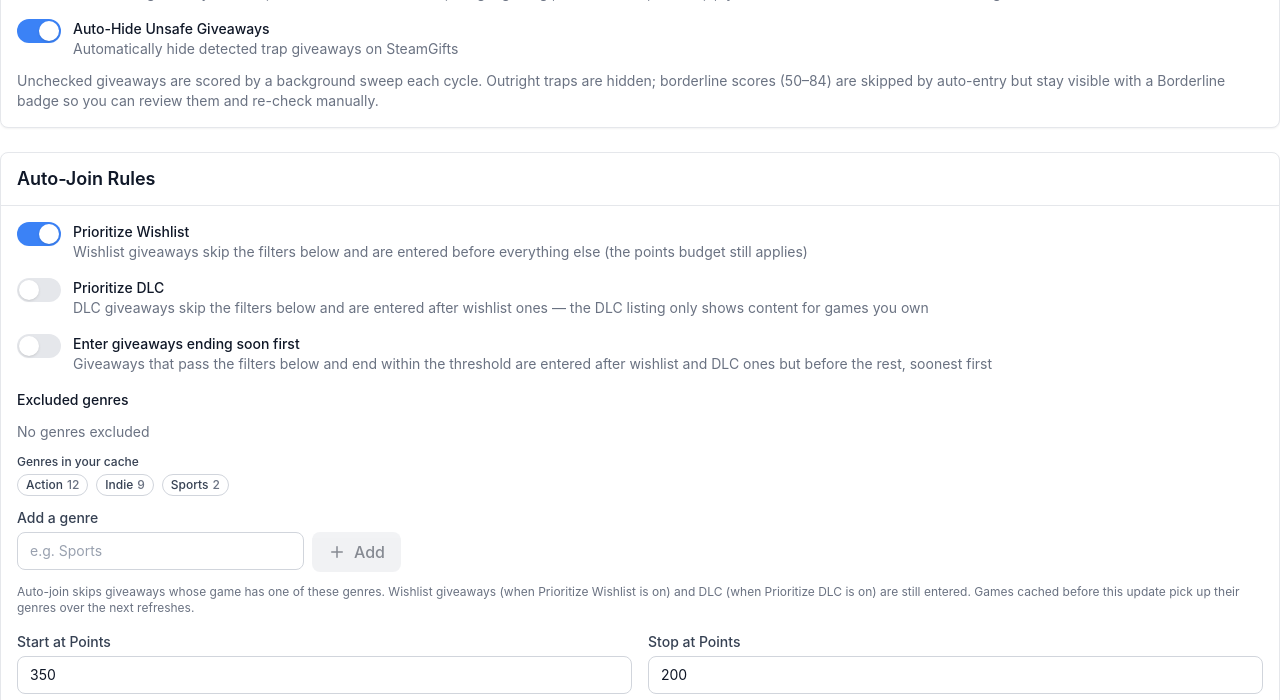
Test: Settings page: ending soon threshold typing and toggle-off rule › shows the saved threshold, not the discarded valid draft, when toggled back on
The width and height of the screenshot is (1280, 700).
(page scrolled)
Click the switch named "Enter giveaways ending soon first" next to "Enter giveaways ending soon first": x=39, y=346 [17,334,61,358]
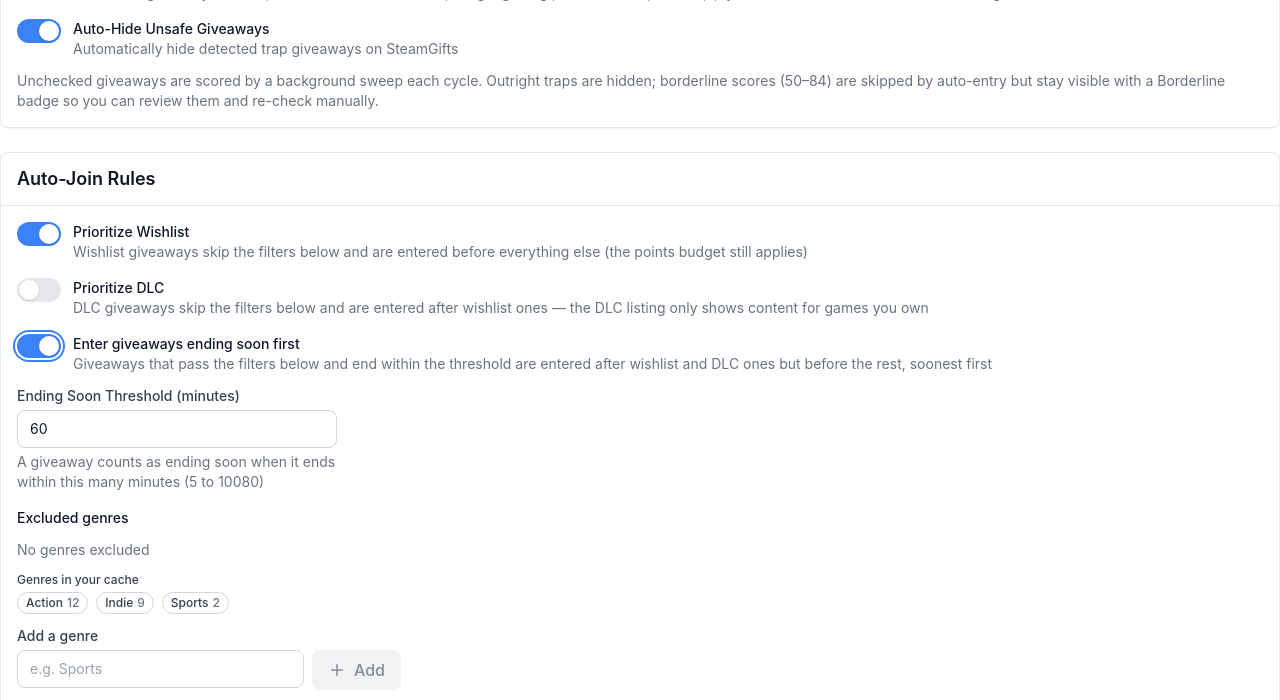
Replace the text in the number field labelled "Ending Soon Threshold (minutes)" with "120": x=177, y=429 [17,410,337,448]
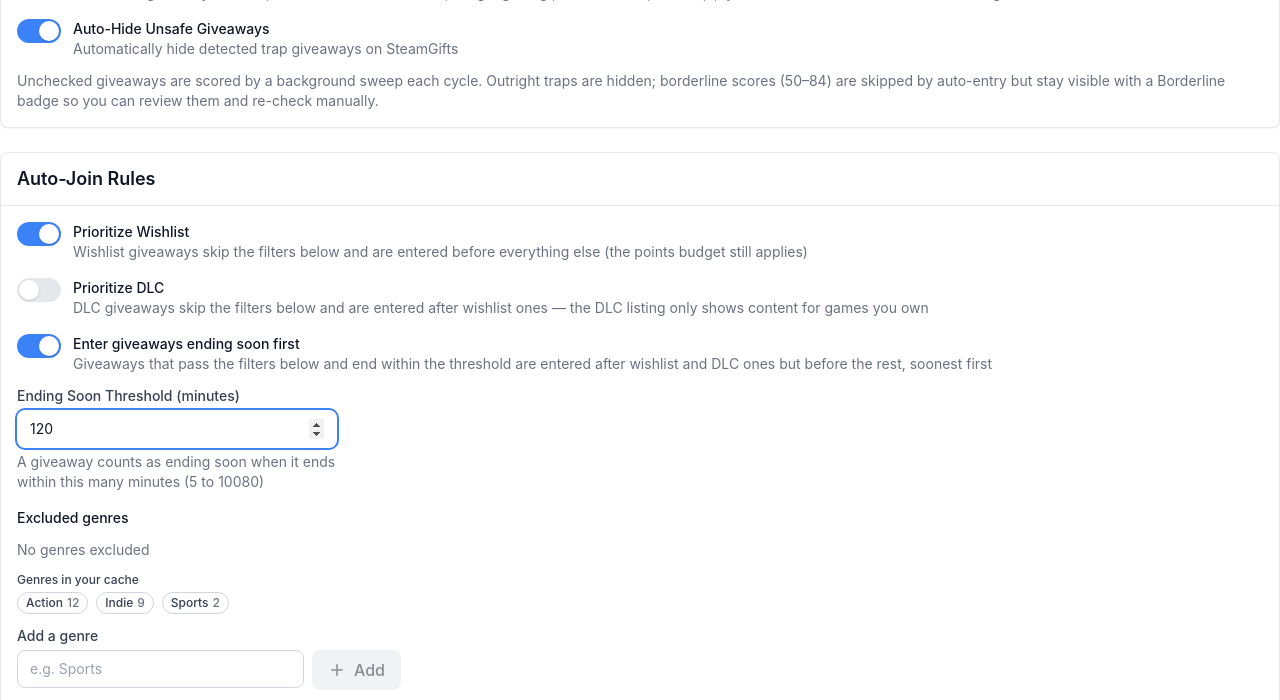
Click the switch named "Enter giveaways ending soon first" next to "Enter giveaways ending soon first": x=39, y=346 [17,334,61,358]
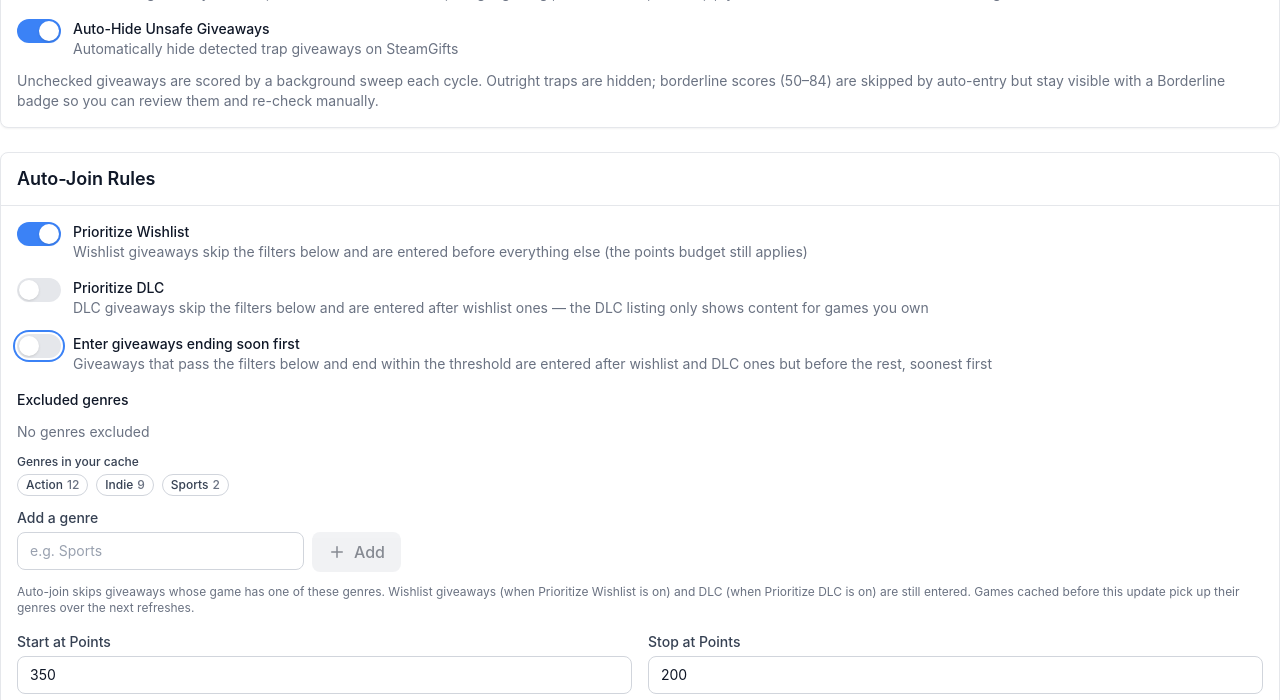
Click the switch named "Enter giveaways ending soon first" next to "Enter giveaways ending soon first": x=39, y=346 [17,334,61,358]
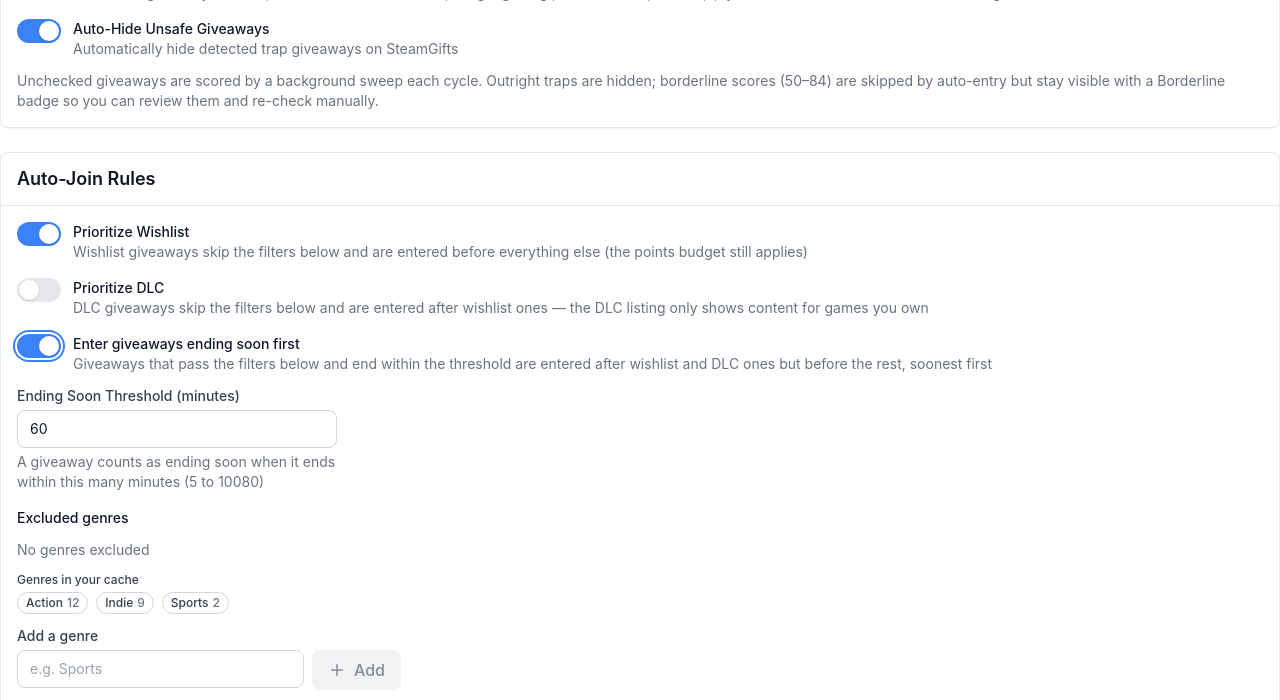
Now the number field labelled "Ending Soon Threshold (minutes)" holds "60", box [17,410,337,448]
